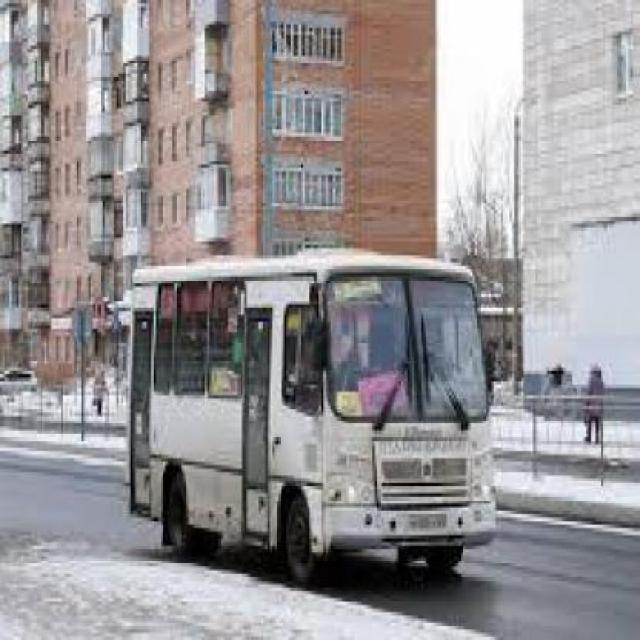bus: (129, 248, 500, 582)
